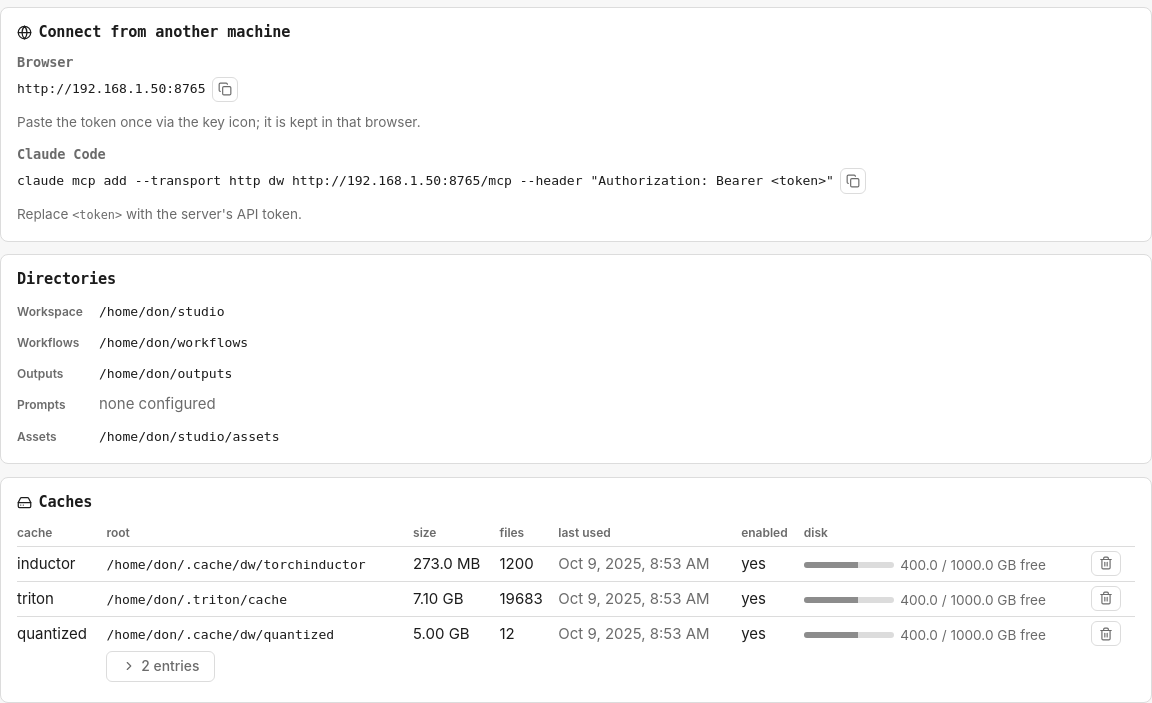
Test: shows an entry count that expands to the entry table
(page scrolled)
Click the button with class "entrytoggle": point(161, 666) [106, 651, 215, 682]
(page scrolled)
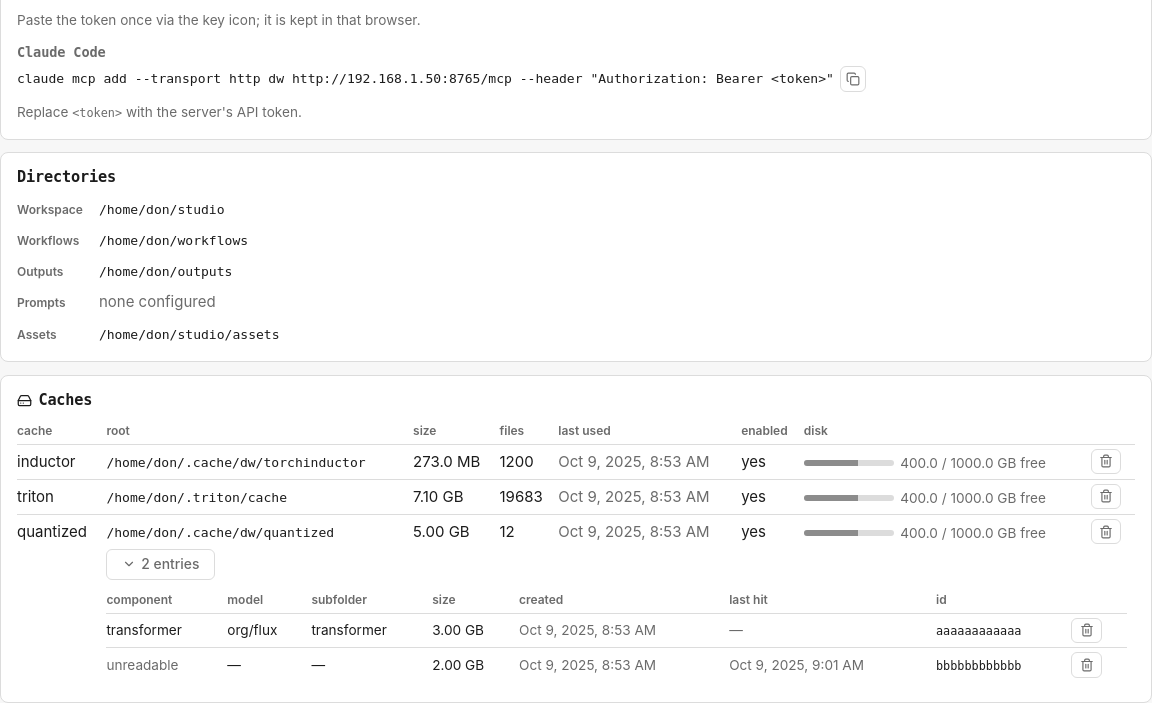
Check: the table with class "entrytable" shows "org/flux", box [227, 622, 277, 638]
Check: the table with class "entrytable" shows "transformer", box [106, 622, 182, 638]
Check: the table with class "entrytable" shows "3.00 GB", box [432, 622, 484, 638]
